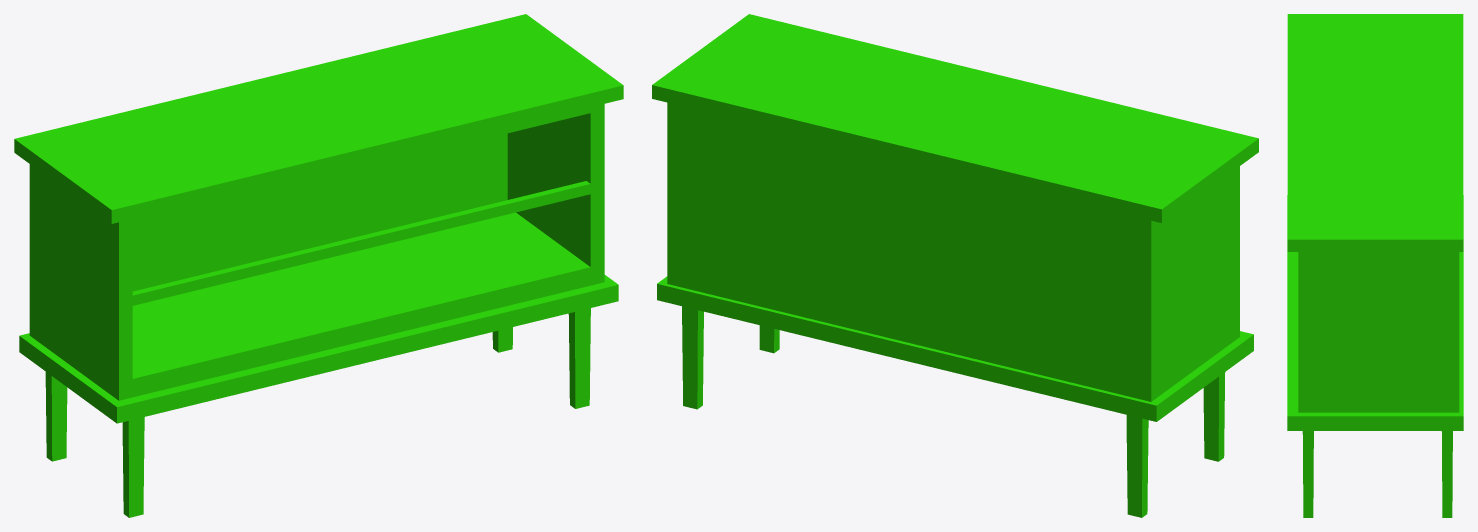
The model's file is Cupboard_01_Lod0.fbx.
3 renders of one model, left to right at view 1: azimuth 30°, elevation 25°; view 2: azimuth 150°, elevation 25°; view 3: azimuth 270°, elevation 25°, orthographic. The views are drawn at different scales.
Visible parts, largest first — view 1: Cupboard_01_Lod0; view 2: Cupboard_01_Lod0; view 3: Cupboard_01_Lod0.
Boxes of the visible parts, x1=… form: Cupboard_01_Lod0: x1=14, y1=14, x2=623, y2=517; Cupboard_01_Lod0: x1=652, y1=14, x2=1258, y2=517; Cupboard_01_Lod0: x1=1287, y1=14, x2=1463, y2=517.
Size of the model in its own units: 132 by 79.19 by 43.76.
